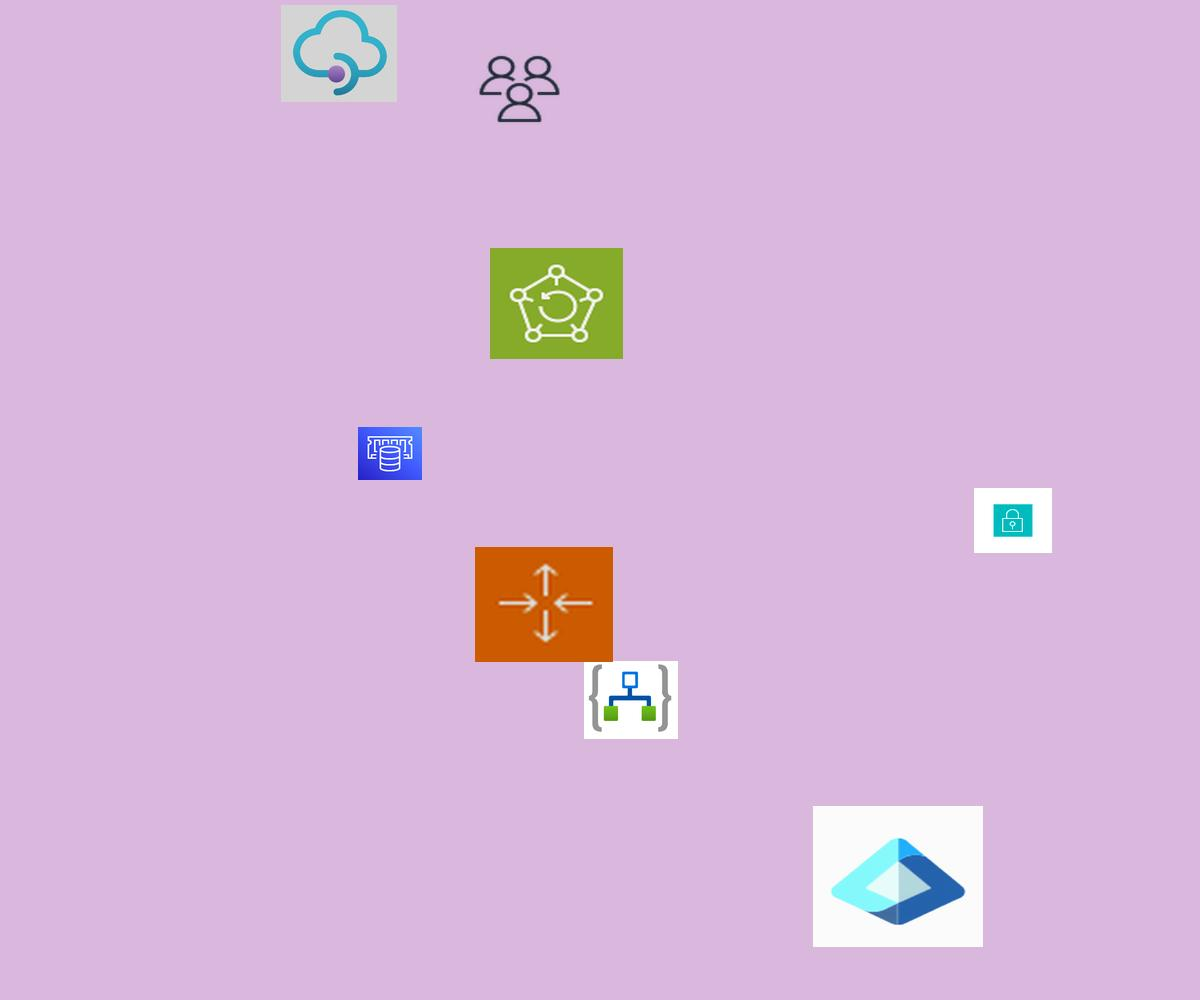AWS-Backup: (490, 248, 623, 359)
AWS-ElastiCache: (358, 427, 422, 480)
AWS-Private-subnet: (974, 488, 1052, 553)
AWS-Res_Users: (476, 53, 563, 125)
AWS-Scaling-group: (475, 547, 613, 662)
Azure_api_gateway: (281, 5, 397, 102)
Azure_integration-204-Logic-Apps: (584, 661, 678, 739)
Azure_microsoft_entra: (813, 806, 983, 947)
